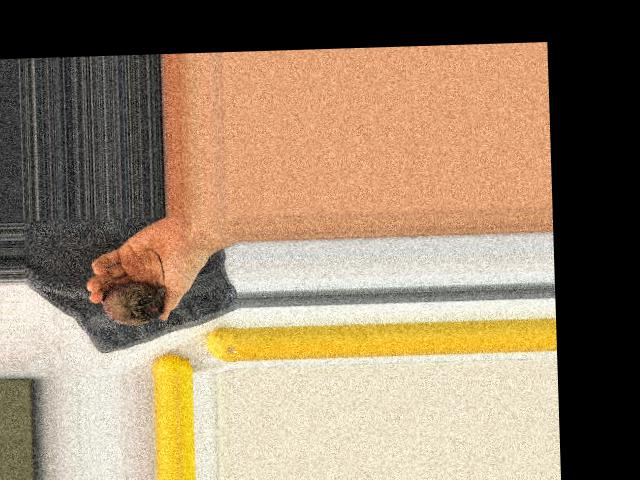beet: (100, 248, 163, 326)
